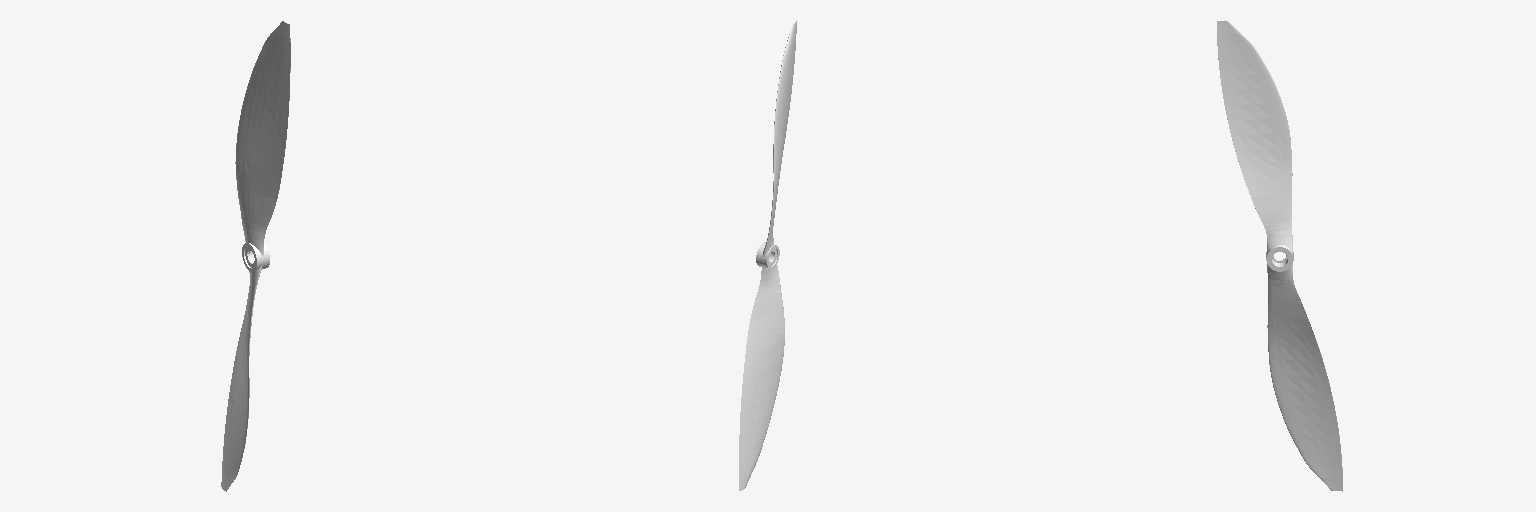
The robot description file, URDF, robot "plane":
<?xml version="1.0"?>

<robot name="plane">
	<link name="base_link">
		<visual>
			<geometry>
				<!-- <mesh filename="package://last_letter/data/parameters/aircraft/skywalker_2013/urdf/skywalker_2013.dae"/> -->
				<mesh filename="package://last_letter/data/parameters/aircraft/skywalker_2013/urdf/skywalker_2013.stl" scale="0.02621 0.02621 0.02621"/>
			</geometry>
			<material name="greenSprite">
				<color rgba="0.1 0.84 0.06 1"/>
			</material>
		</visual>
	</link>

	<link name="propeller_0">
		<visual>
			<geometry>
				<mesh filename="package://last_letter/data/parameters/aircraft/skywalker_2013/urdf/10x4.7.stl"/>
			</geometry>
			<material name="whitePurity">
				<color rgba="1.0 1.0 1.0 1.0"/>
			</material>
		</visual>
	</link>

	<joint name="motor_mount" type="floating">
		<parent link="base_link"/>
		<child link="propeller_0"/>
	</joint>

</robot>

--- Facts derived from the render (not from the file) ---
The picture shows the robot from 3 angles, left to right: view 1: azimuth 30°, elevation 25°; view 2: azimuth 150°, elevation 25°; view 3: azimuth 270°, elevation 25°; orthographic projection.
Model plane with 2 links and 1 joints (1 floating), rooted at base_link, posed every joint at zero.
Visible links, largest first — view 1: propeller_0; view 2: propeller_0; view 3: propeller_0.
Link boxes in pixels (x1,y1,x2,y2): propeller_0: (221, 21, 290, 491); propeller_0: (739, 21, 796, 490); propeller_0: (1217, 20, 1342, 491).
Bounding box of the posed robot: 0.0105 × 0.06 × 0.2464 m (x, y, z).
1 mesh visuals loaded from 2 distinct referenced files (1 binary STL); not drawn: 1 (reference not matched to a file when rendering).
